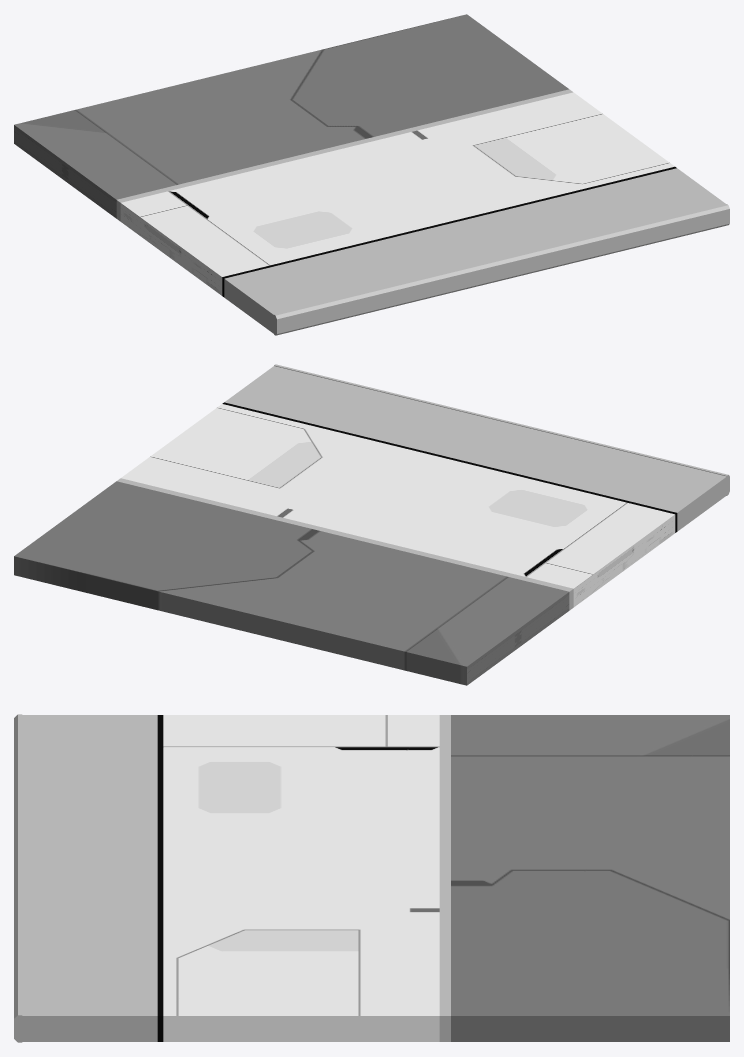
Rendered from SM_Platform_Interior_5x5.fbx.
3 renders of one model, top to bottom at view 1: azimuth 30°, elevation 25°; view 2: azimuth 150°, elevation 25°; view 3: azimuth 270°, elevation 25°, orthographic. The views are drawn at different scales.
Visible parts, largest first — view 1: SM_Platform_Interior_5x5; view 2: SM_Platform_Interior_5x5; view 3: SM_Platform_Interior_5x5.
Part boxes in pixels (bbox=[...]): SM_Platform_Interior_5x5: bbox=[14, 14, 729, 335]; SM_Platform_Interior_5x5: bbox=[14, 364, 729, 685]; SM_Platform_Interior_5x5: bbox=[14, 714, 729, 1042].
Bounding box in the file's own units: 500 × 21.21 × 503.
